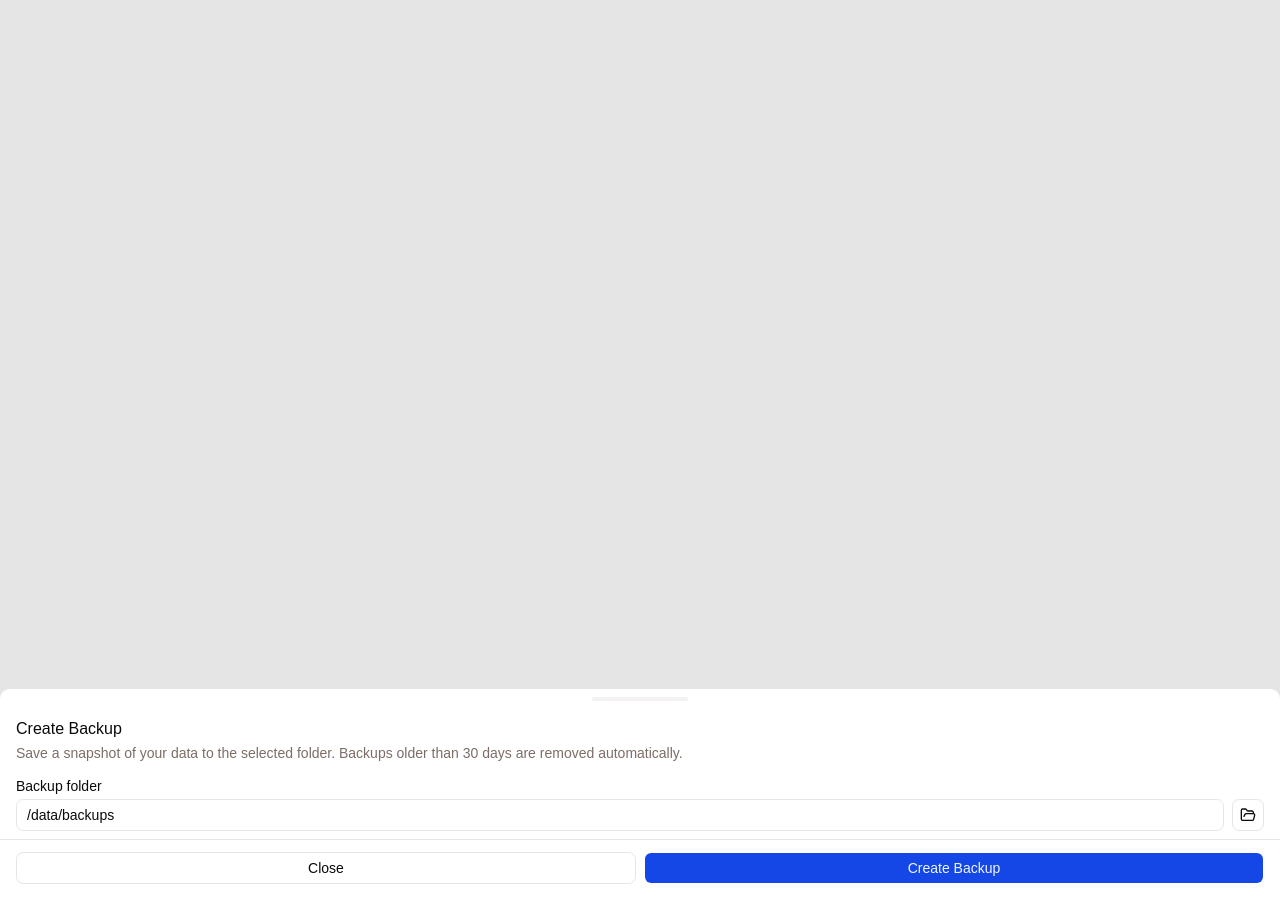
BackupDialog › creates once on a double tap and reports the saved file
The width and height of the screenshot is (1280, 900).
Expected: the field labelled "Backup folder" holds "/data/backups", [16,799,1224,831]
Click the button "Create Backup".
click(954, 868)  # box [644,852,1264,884]
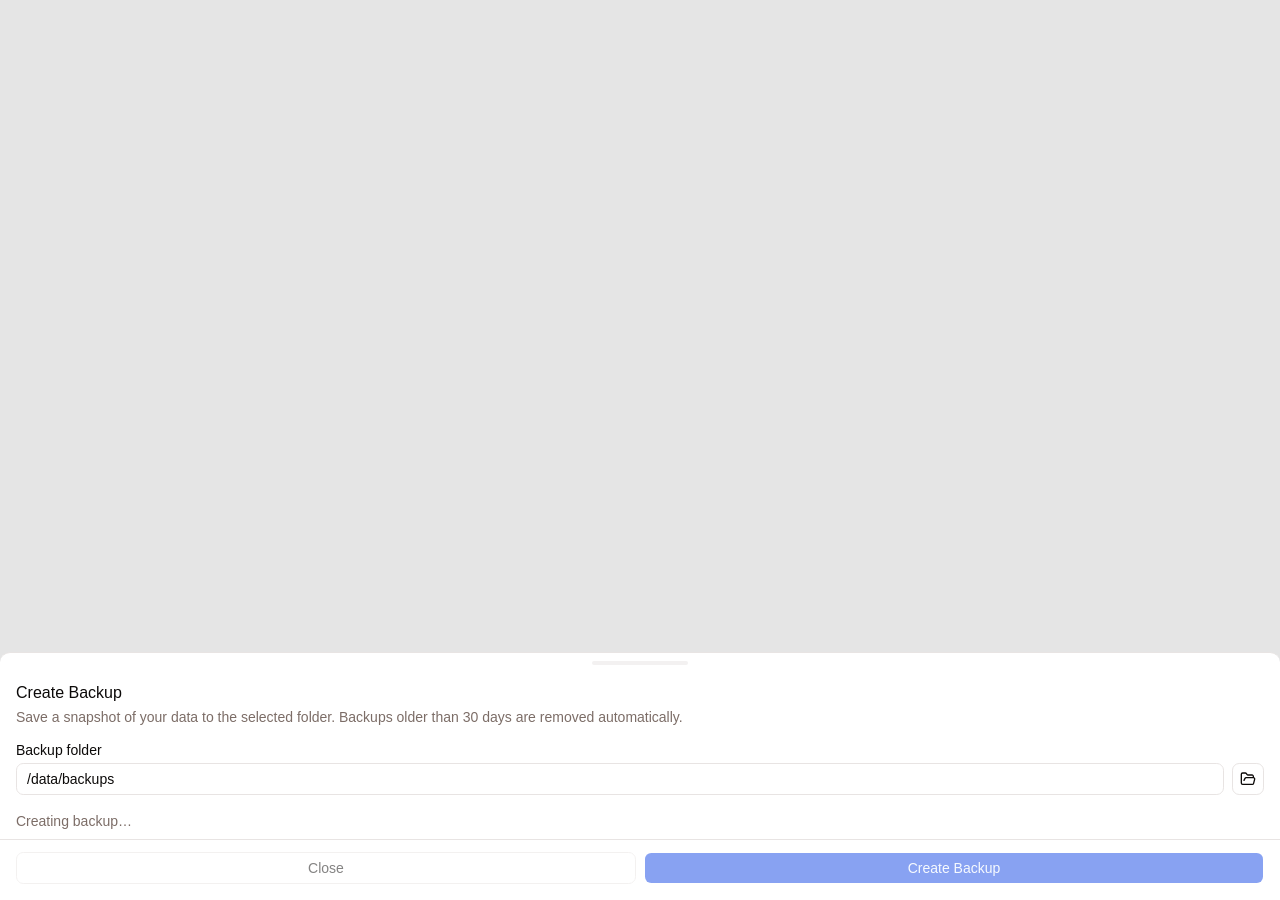
Click the button "Create Backup".
click(954, 868)  # box [644,852,1264,884]
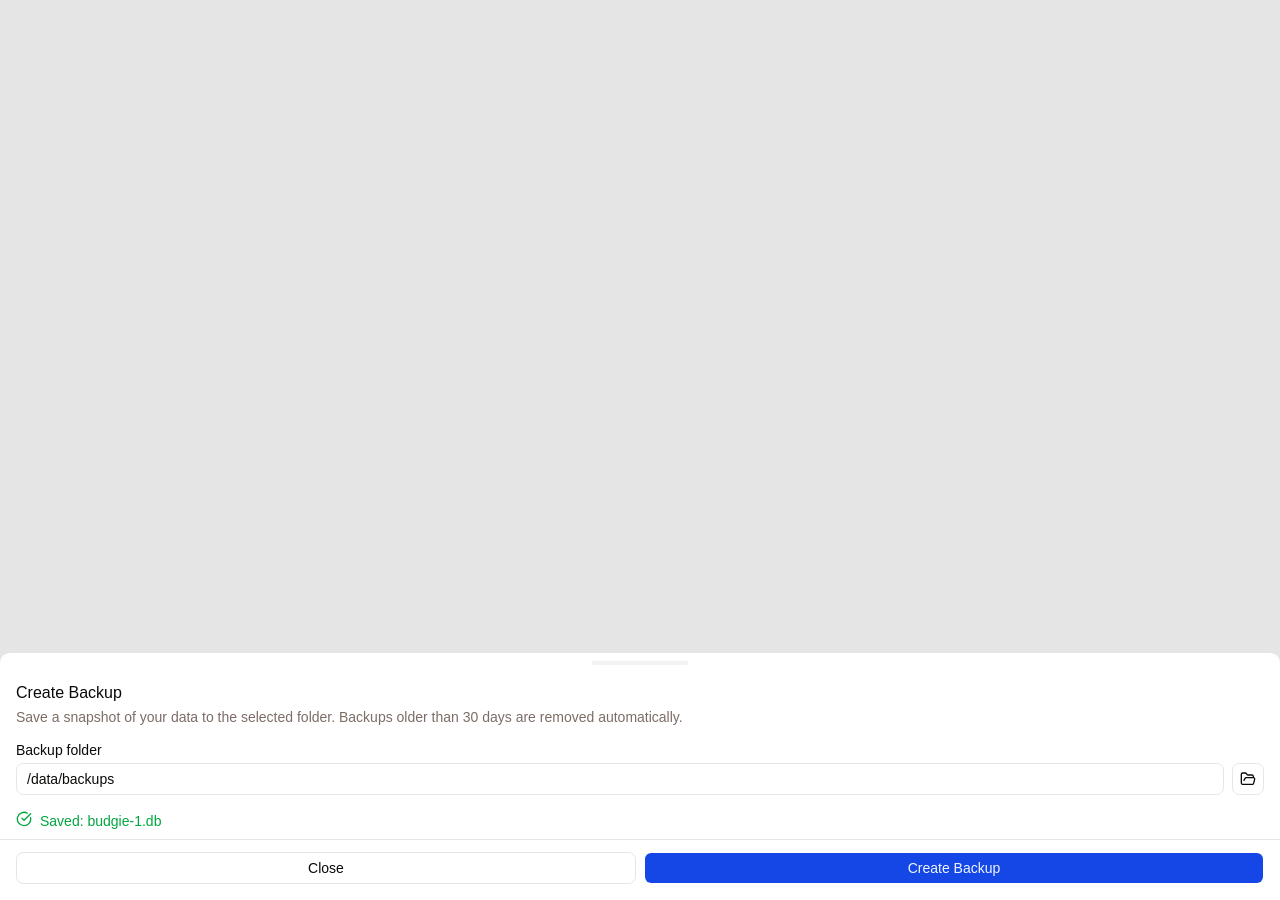
Now the message reads "Saved: budgie-1.db", box [40,813,161,829]
